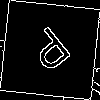P: (24, 24, 80, 81)
